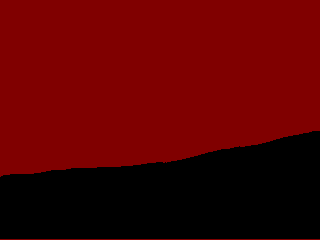Sky: (1, 1, 319, 239)
